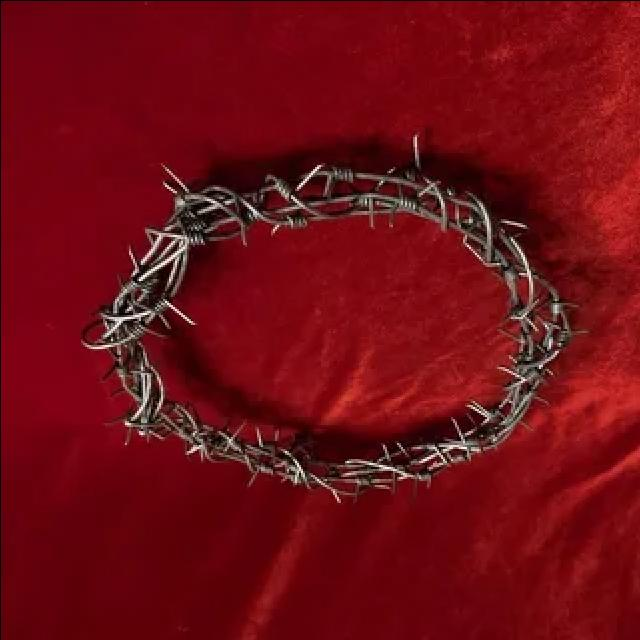crown: (95, 145, 574, 500)
